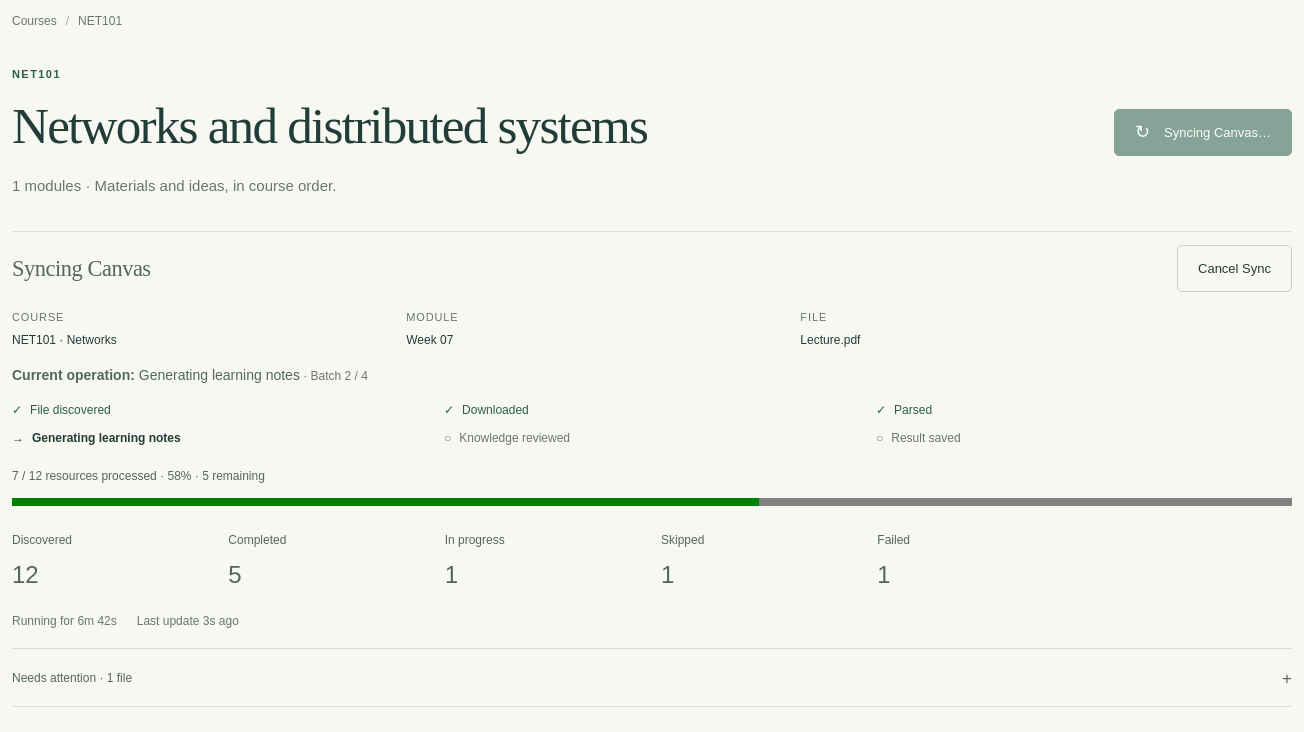
Test case: keeps failures expandable during processing and allows course browsing
The width and height of the screenshot is (1304, 732).
What coordinates should you click on to do the following:
click the heading "Needs attention · 1 file"
I would click on:
 (72, 678)
Its box is x1=12 y1=671 x2=132 y2=685.
Wait 1000 ms
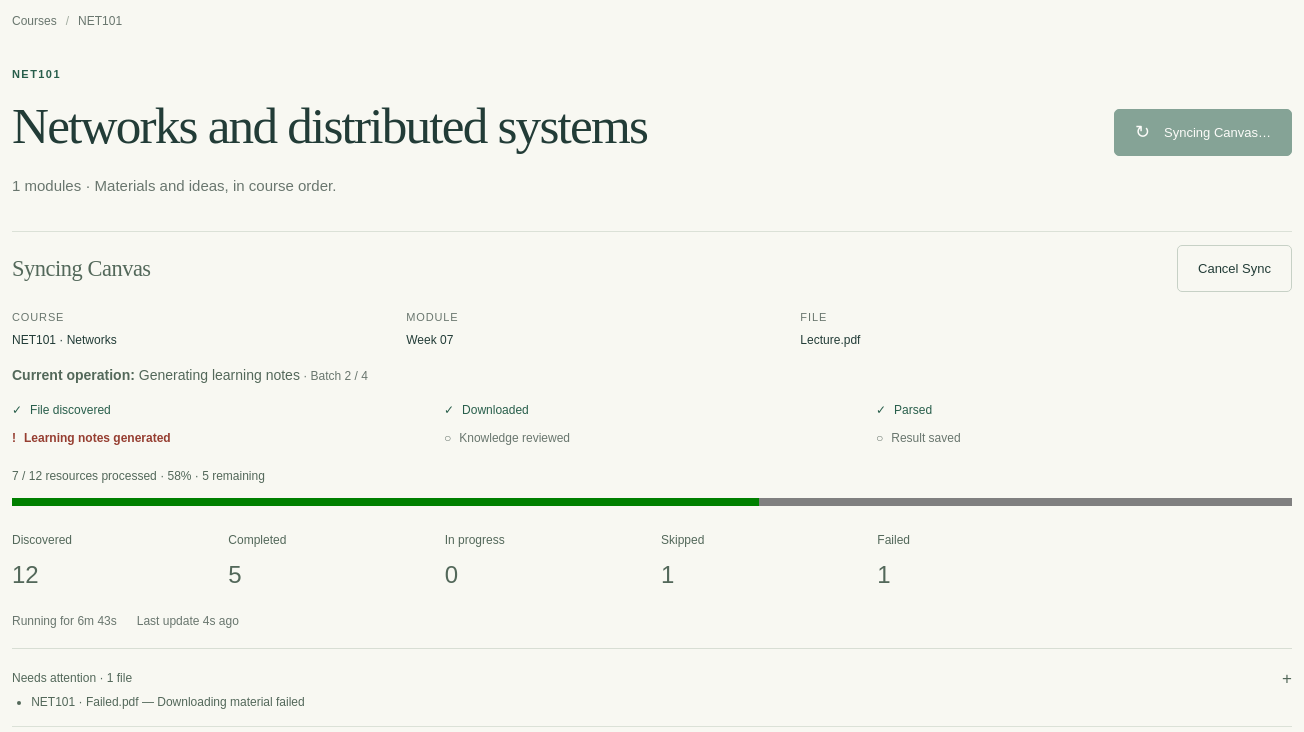
Expected: the list item "NET101 · Failed.pdf — Downloading material failed" is shown, x1=31 y1=695 x2=305 y2=709
